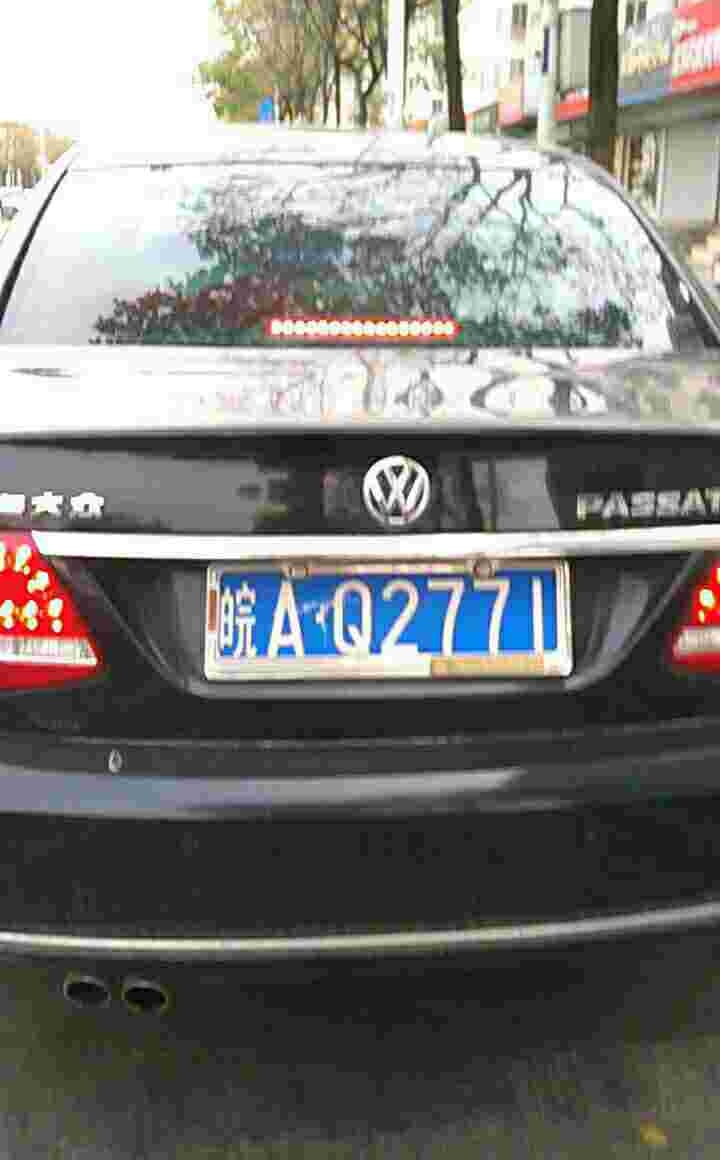license_plate: (225, 570, 552, 664)
